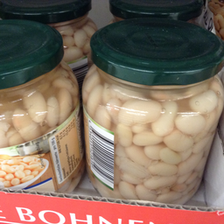beans: (87, 19, 221, 206), (1, 19, 78, 194)
